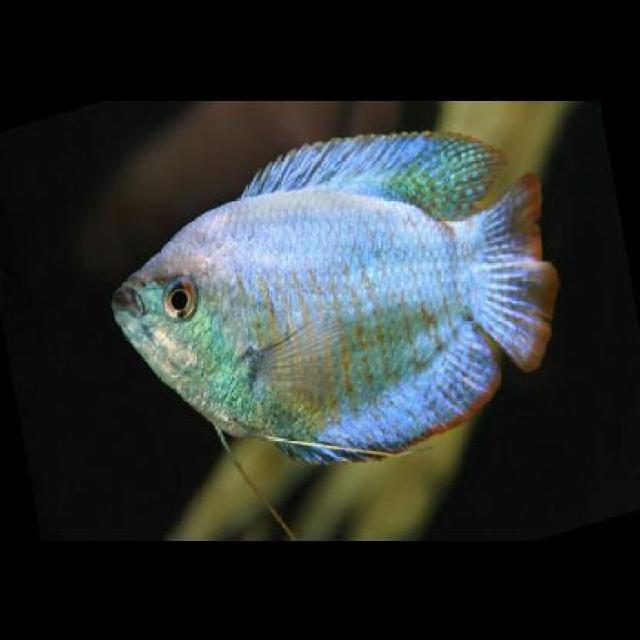Gourami: (109, 122, 566, 468)
